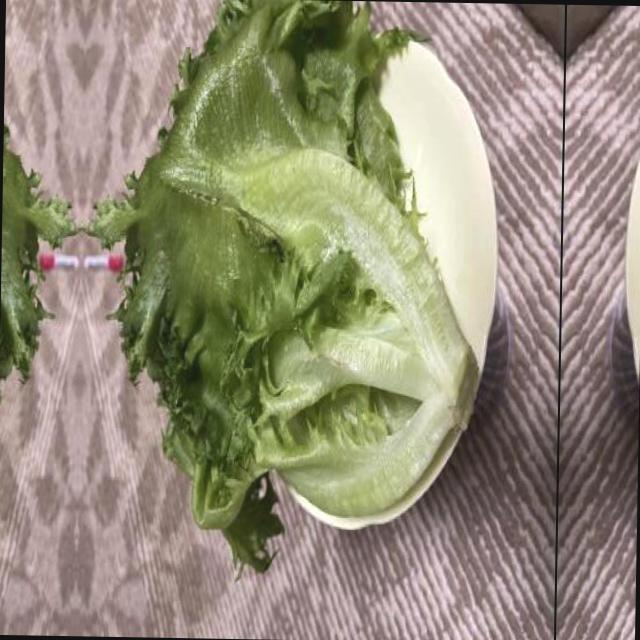healthy: (93, 0, 483, 583), (0, 0, 67, 575)
